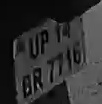1: (65, 46, 74, 72), (54, 24, 63, 45)
4: (61, 24, 74, 41)
6: (73, 41, 83, 65)
7: (45, 59, 57, 86), (56, 53, 65, 78)
B: (20, 73, 32, 97)
P: (39, 30, 50, 54)
R: (32, 65, 46, 94)
U: (27, 33, 40, 59)
